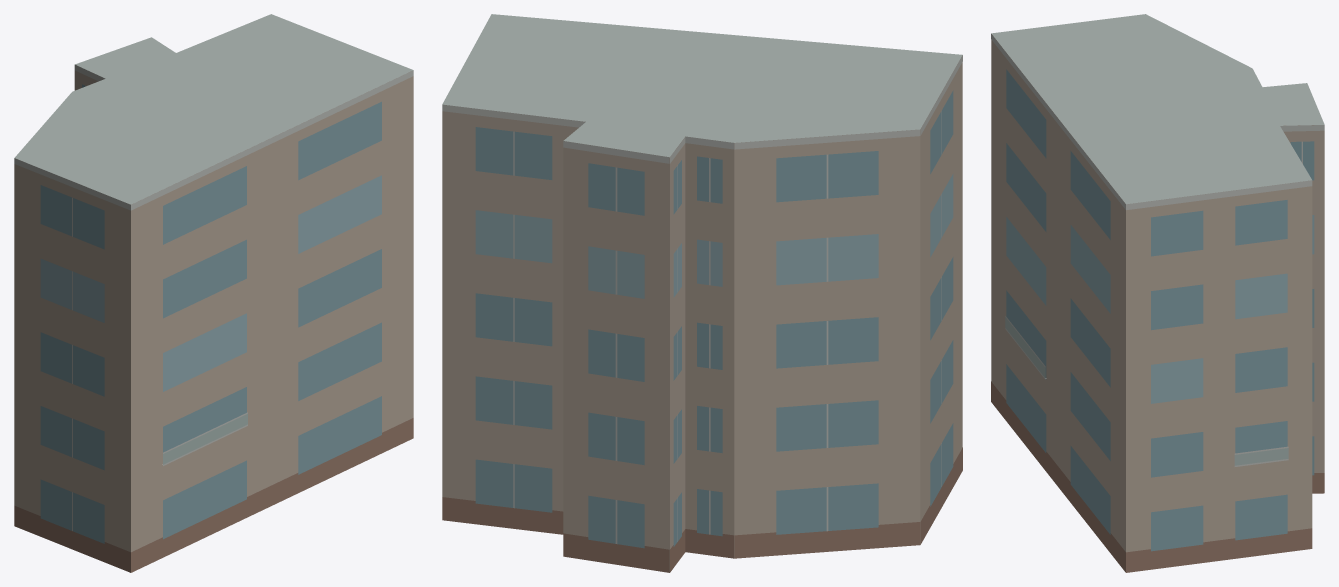
The model's file is survey-upis-32680806.glb.
The picture shows the model from 3 angles, left to right: view 1: azimuth 30°, elevation 25°; view 2: azimuth 150°, elevation 25°; view 3: azimuth 270°, elevation 25°; orthographic projection. The views are drawn at different scales.
Parts seen in each view (by area): view 1: survey-upis-32680806.tmp; view 2: survey-upis-32680806.tmp; view 3: survey-upis-32680806.tmp.
Part boxes in pixels (bbox=[...]): survey-upis-32680806.tmp: bbox=[14, 14, 413, 572]; survey-upis-32680806.tmp: bbox=[442, 14, 962, 572]; survey-upis-32680806.tmp: bbox=[991, 14, 1324, 572].
Bounding box in the file's own units: 16.9 × 15.25 × 12.52.
